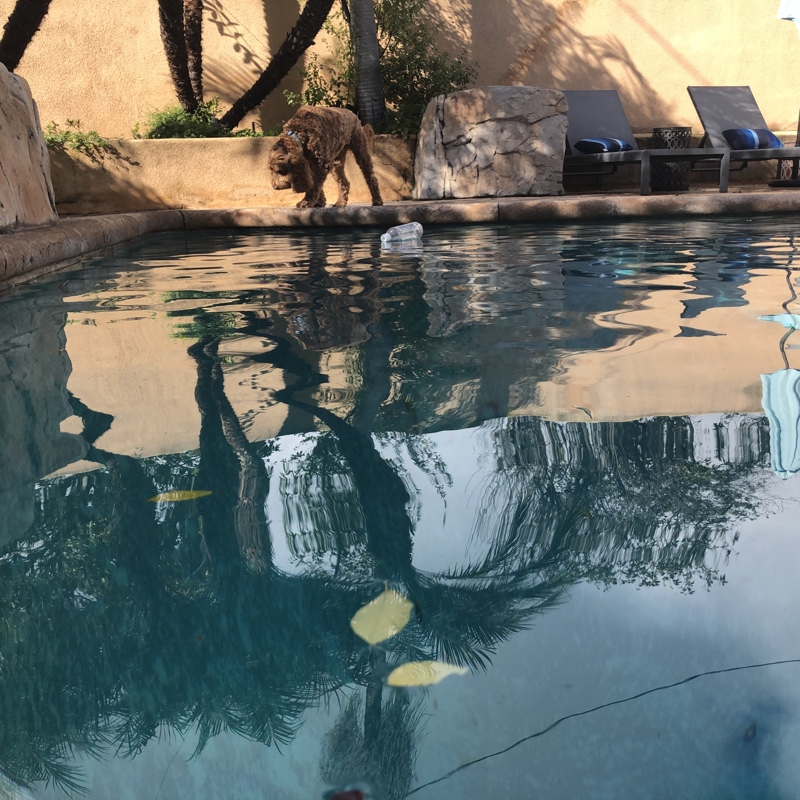Plastic Bottle: (374, 218, 425, 242)
